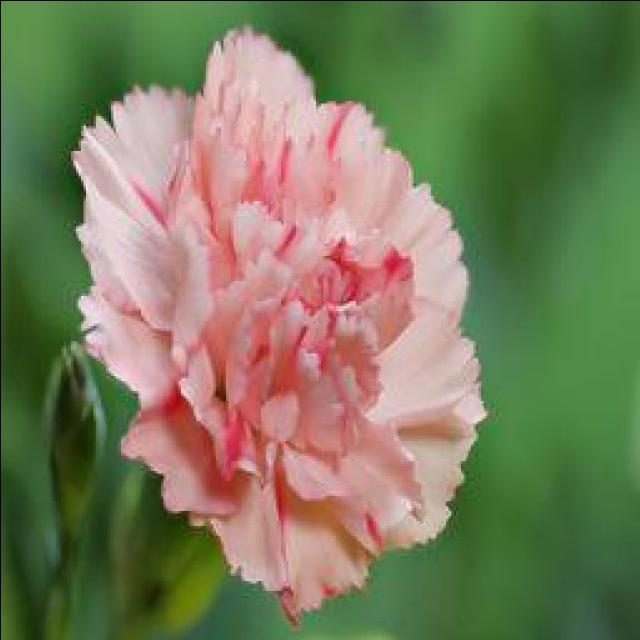carnation: (44, 25, 506, 600)
